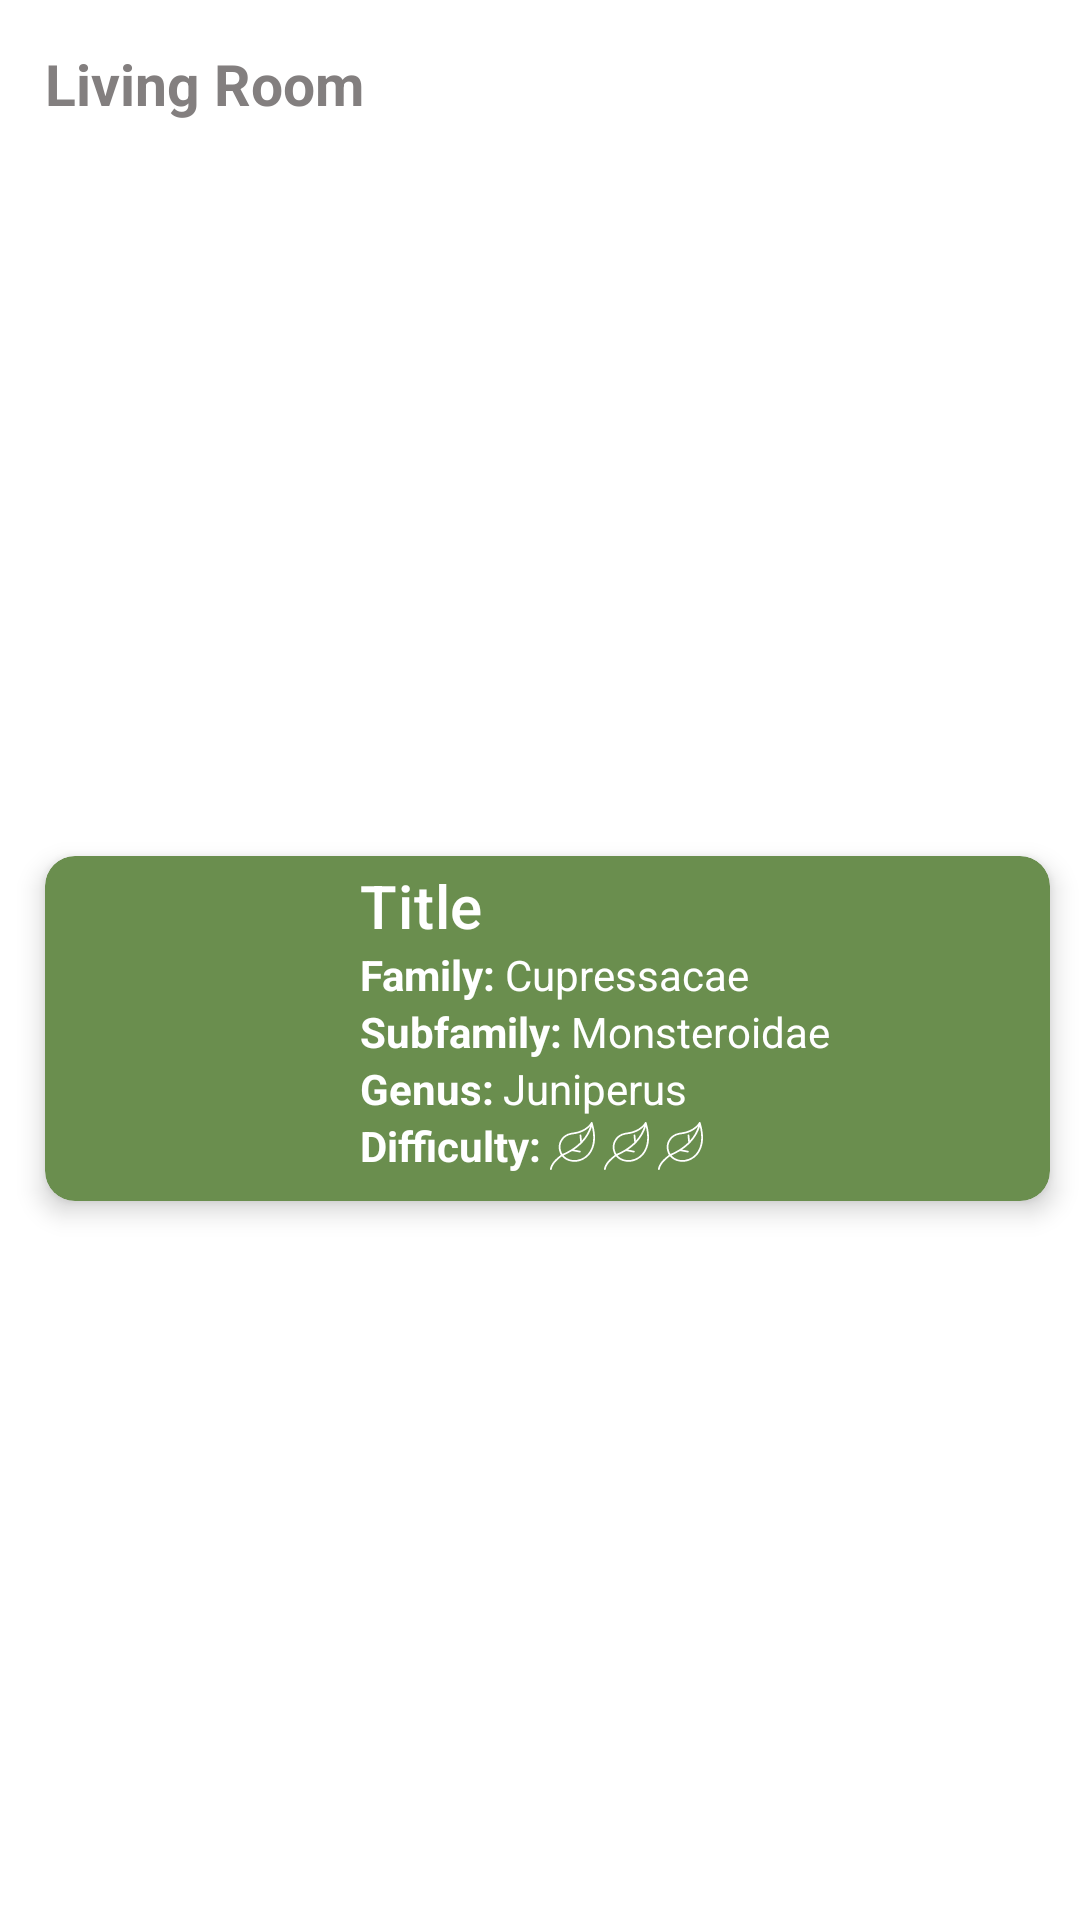

Where to tap for icons on this 1080px×1920px app screen, as [x,y]:
leaf: [572,1146], [626,1146], [680,1146]
